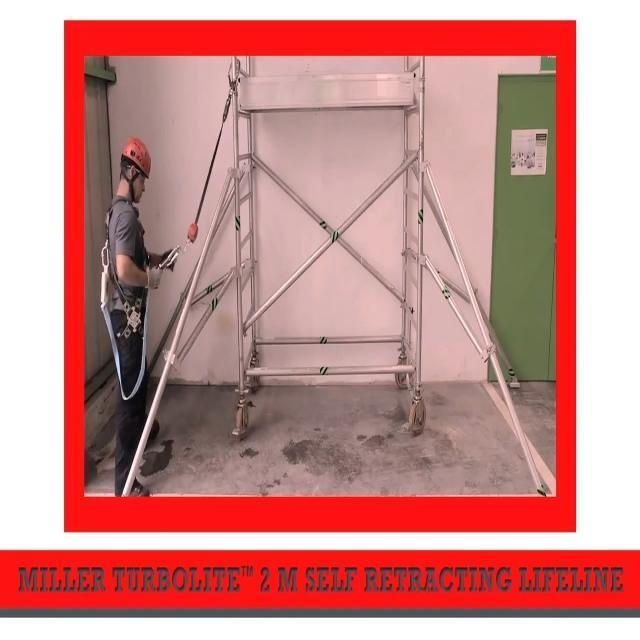Arnes_seguridad: (99, 188, 154, 359)
